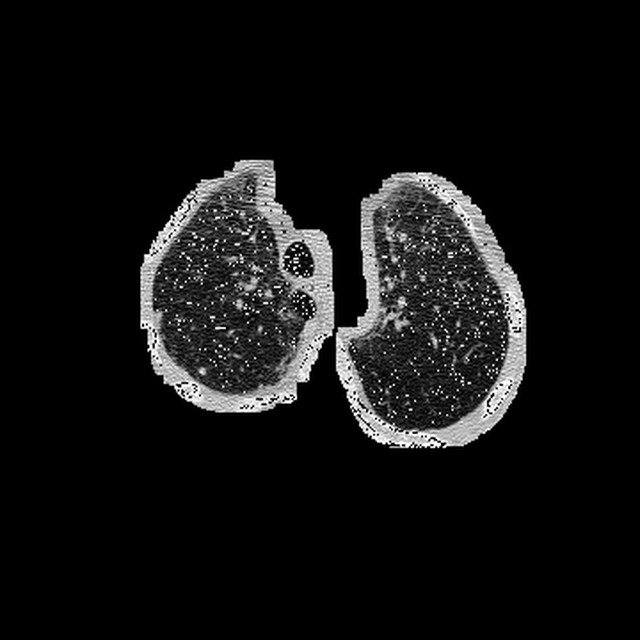PN: (199, 368, 206, 375)
